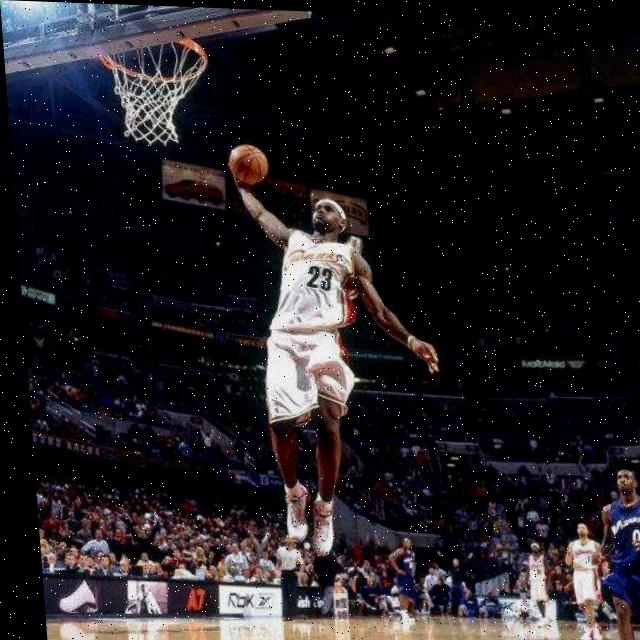basketball: (228, 145, 270, 185)
hoop: (100, 33, 215, 145)
